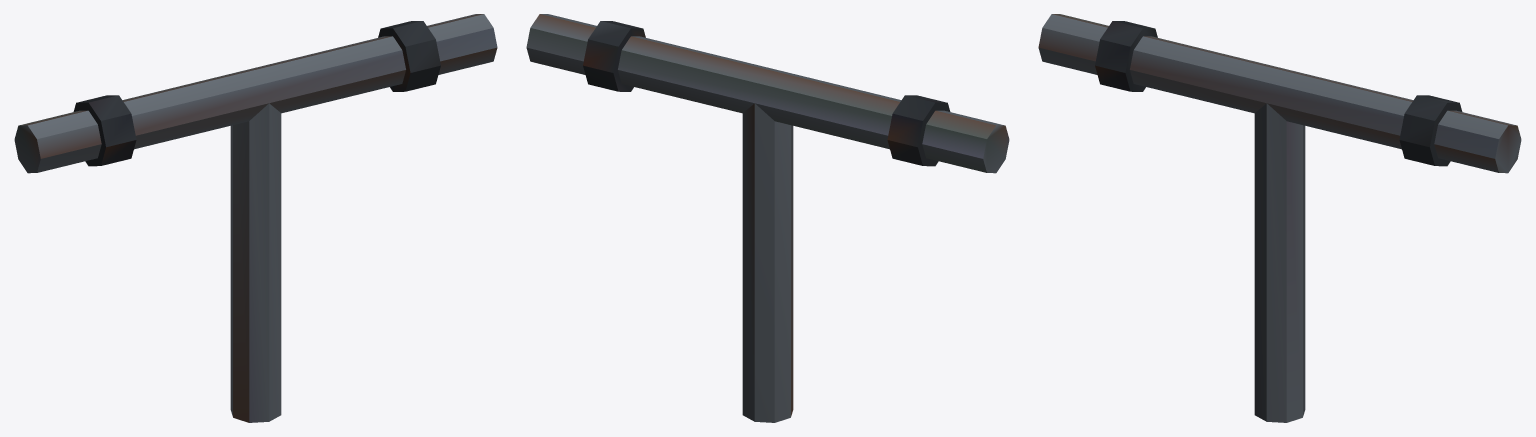
The model's file is pipe.glb.
3 renders of one model, left to right at view 1: azimuth 30°, elevation 25°; view 2: azimuth 150°, elevation 25°; view 3: azimuth 330°, elevation 25°, orthographic.
Parts seen in each view (by area): view 1: pipe; view 2: pipe; view 3: pipe.
Part boxes in pixels (left/top/right/bottom): pipe: left=14, top=14, right=497, bottom=422; pipe: left=526, top=14, right=1009, bottom=422; pipe: left=1038, top=14, right=1521, bottom=422.
Bounding box in the file's own units: 60 × 44 × 8.
